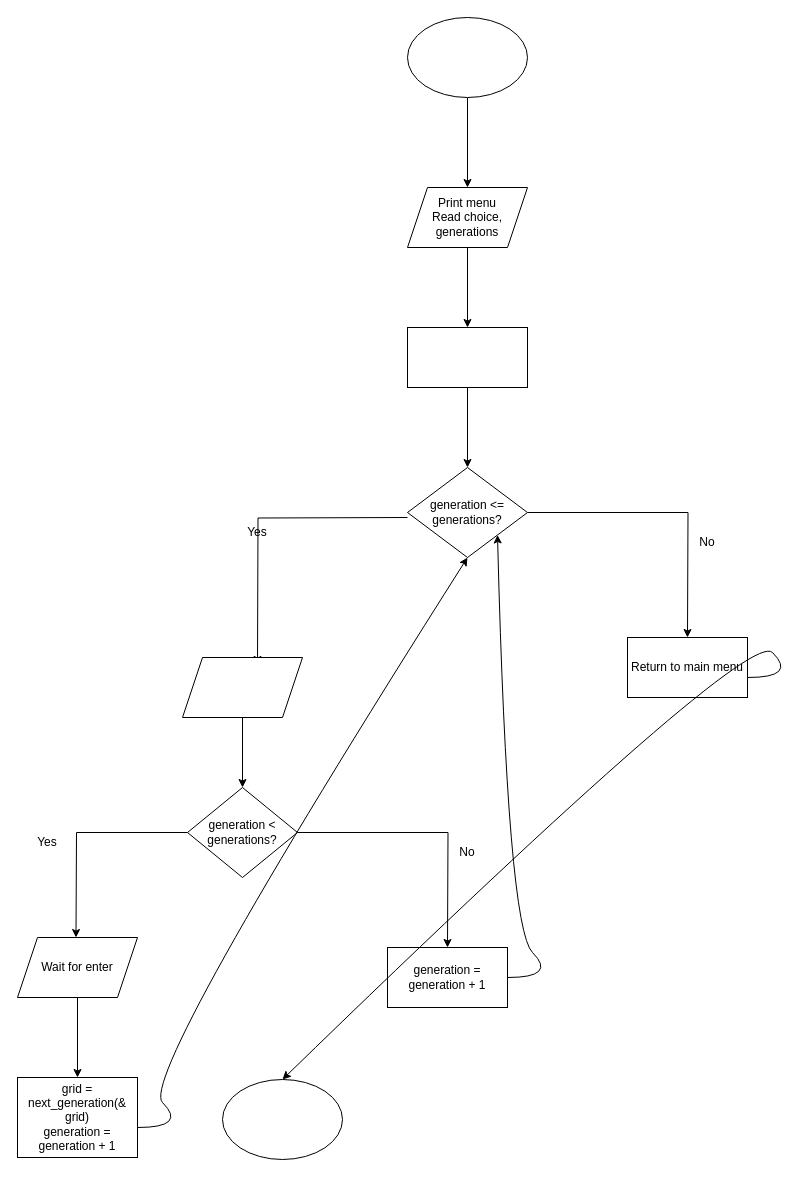
This 799x1177 diagram has some shape labels left out. Here are the shapes that lost their labels. From the top down, the centre of each, then its label:
At point (467, 57): "Start".
At point (467, 357): "grid = load_pattern(choice) generation = 0".
At point (242, 687): "Print generation, population, and grid".
At point (282, 1119): "End".
